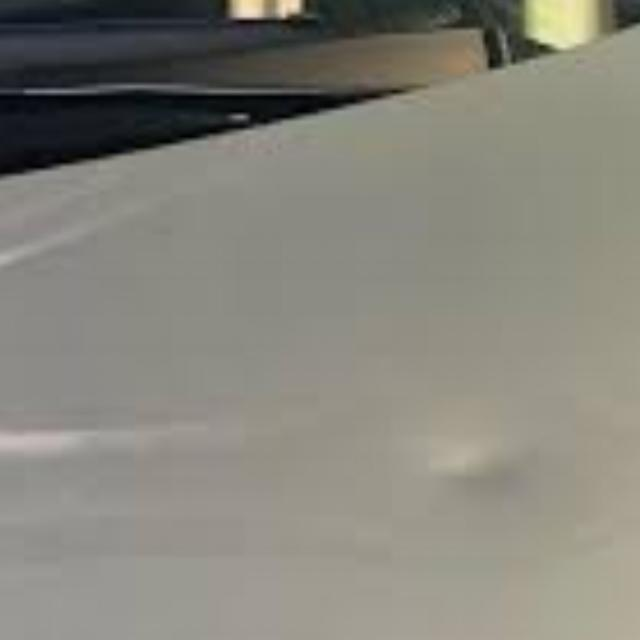dents: (413, 424, 547, 517)
